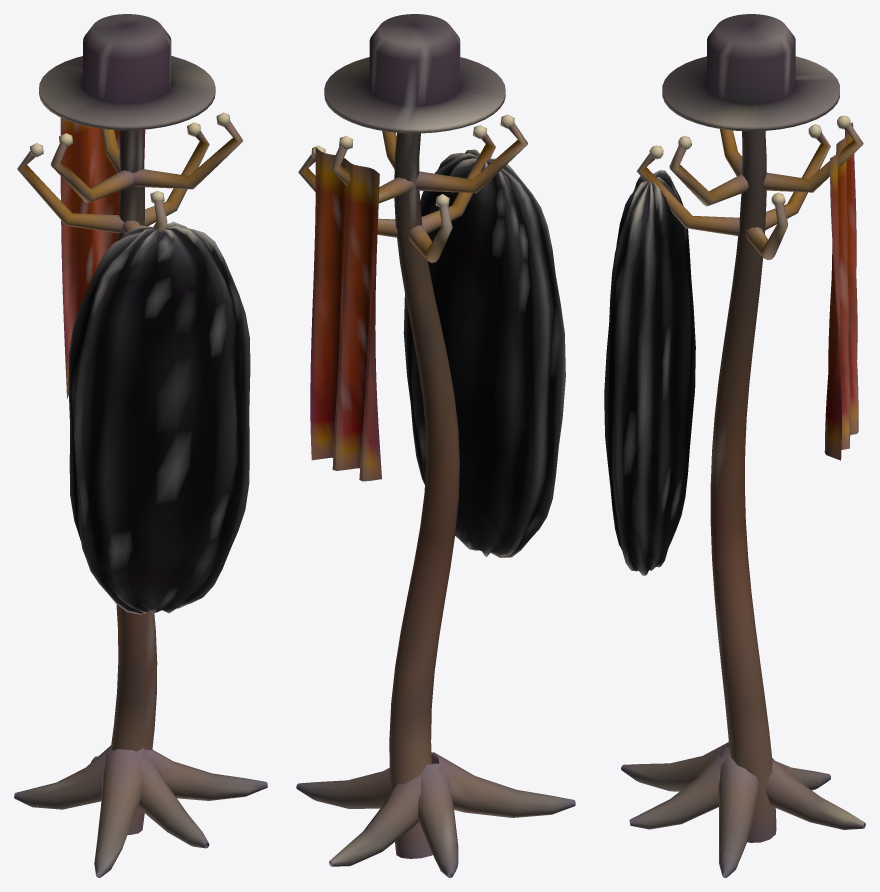
The model's file is askilik.glb.
3 views of the same model, side by side, from view 1: azimuth 30°, elevation 25°; view 2: azimuth 150°, elevation 25°; view 3: azimuth 270°, elevation 25° (orthographic). The views are drawn at different scales.
Visible parts, largest first — view 1: askilik_LOD0; view 2: askilik_LOD0; view 3: askilik_LOD0.
Part boxes in pixels (x1=…): askilik_LOD0: x1=14, y1=14, x2=267, y2=877; askilik_LOD0: x1=296, y1=14, x2=575, y2=877; askilik_LOD0: x1=604, y1=14, x2=865, y2=877.
Size of what is drawn, in the model's own units: 0.591 by 2.01 by 0.5869.
